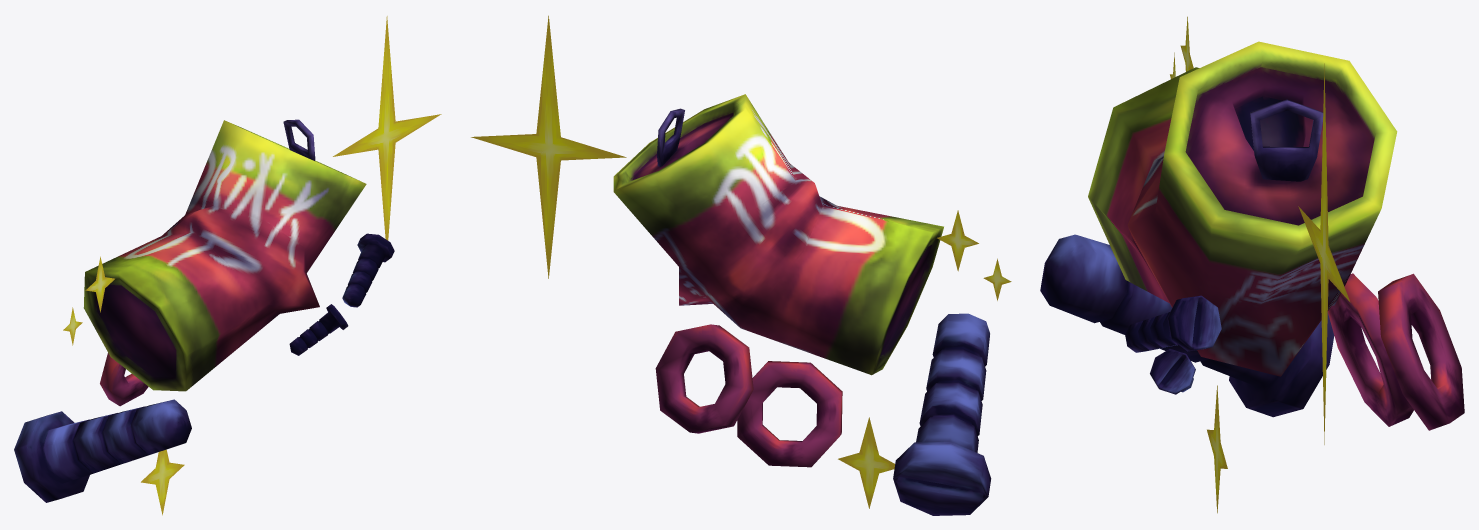
File: can.fbx
The picture shows the model from 3 angles, left to right: view 1: azimuth 30°, elevation 25°; view 2: azimuth 150°, elevation 25°; view 3: azimuth 270°, elevation 25°; orthographic projection. The views are drawn at different scales.
Parts seen in each view (by area): view 1: can, bolt, Plane, bolt.003, nut 2, bolt.004, Plane.002, can pin; view 2: can, bolt, nut 1, nut 2, Plane, Plane.002, can pin, Plane.001; view 3: can, bolt, nut 1, nut 2, bolt.003, can pin, Plane, bolt.004, Plane.002.
Part boxes in pixels (x1,y1,x2,y2): can: (83,120,366,391); bolt: (14,399,191,502); Plane: (333,16,441,240); bolt.003: (342,233,394,307); nut 2: (100,353,148,406); bolt.004: (289,304,348,355); Plane.002: (141,449,184,515); can pin: (283,119,315,160); can: (613,94,943,375); bolt: (893,313,991,515); nut 1: (655,324,753,433); nut 2: (737,361,842,467); Plane: (471,15,626,278); Plane.002: (838,417,895,508); can pin: (657,108,684,166); Plane.001: (937,210,978,271); can: (1088,41,1397,376); bolt: (1040,234,1334,417); nut 1: (1378,273,1464,430); nut 2: (1327,273,1413,426); bolt.003: (1125,295,1221,352); can pin: (1250,99,1323,181); Plane: (1298,63,1350,444); bolt.004: (1150,349,1195,394); Plane.002: (1207,385,1227,513).
Bounding box in the file's own units: 623 × 551 × 326.
Materials: 8 (8 with a texture image).
